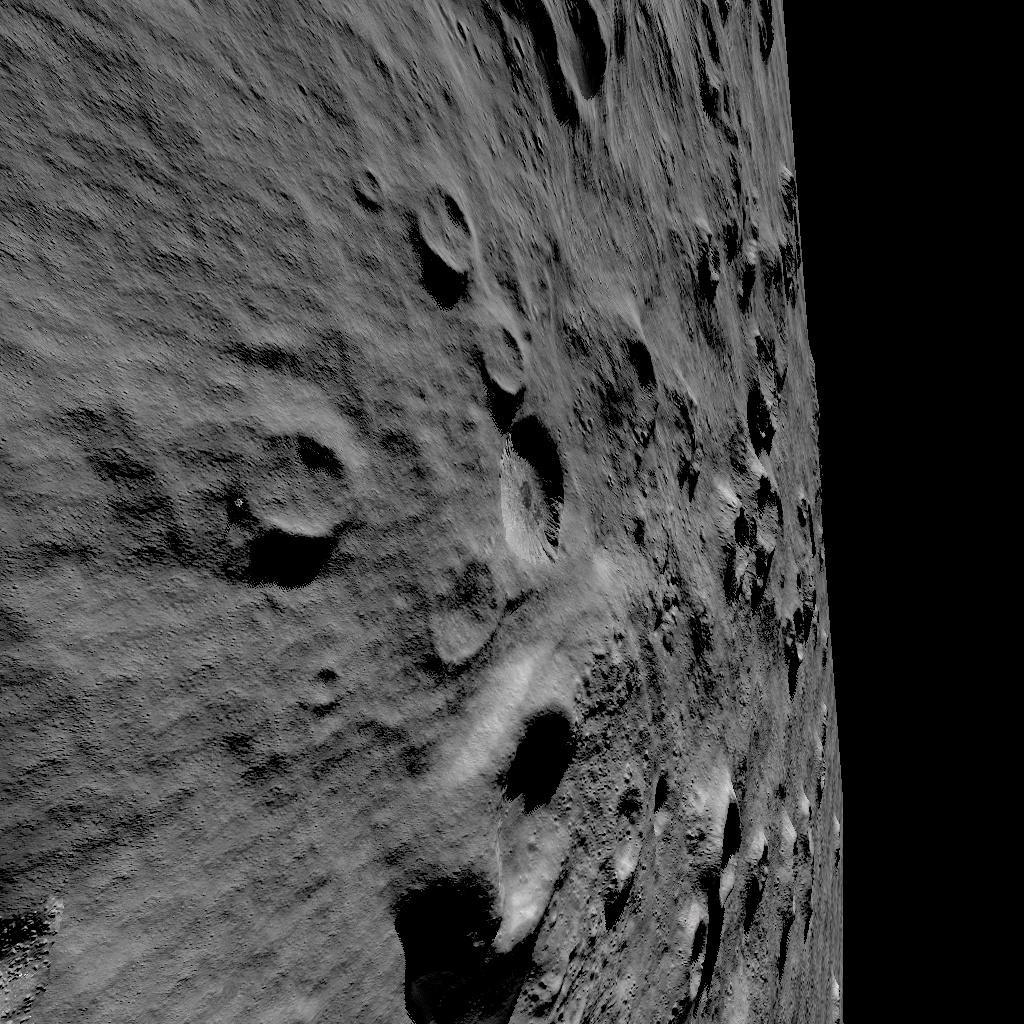Boulders: (0, 800, 86, 1024)
Crater: (403, 638, 598, 1024), (611, 758, 853, 1020), (731, 355, 835, 695), (456, 0, 656, 145), (468, 320, 580, 558), (601, 335, 713, 525), (694, 172, 818, 322), (241, 422, 363, 558), (681, 0, 785, 133), (416, 182, 493, 282)
Plan surface: (0, 0, 398, 413), (0, 428, 228, 788), (104, 802, 390, 1024)
